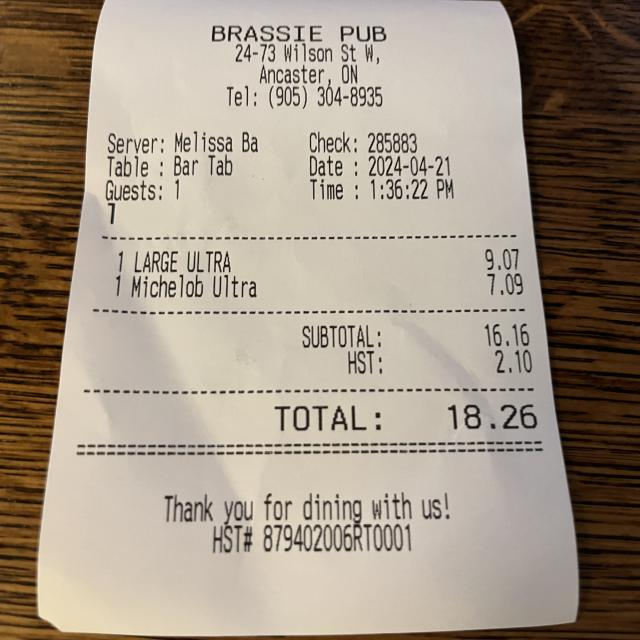item: (129, 239, 529, 277), (124, 270, 532, 304)
store_name: (201, 17, 397, 51)
total_amount: (264, 392, 546, 440)
transaction_date: (360, 152, 461, 181)
